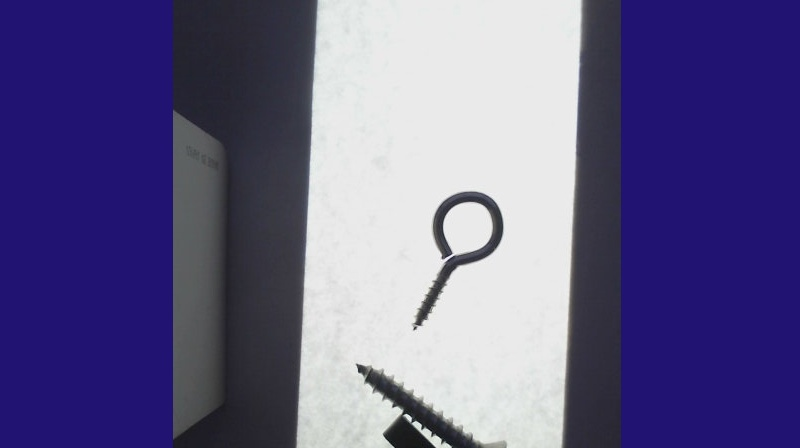O001: (409, 190, 505, 332)
O002: (286, 412, 476, 447)
S001: (353, 362, 509, 447)
